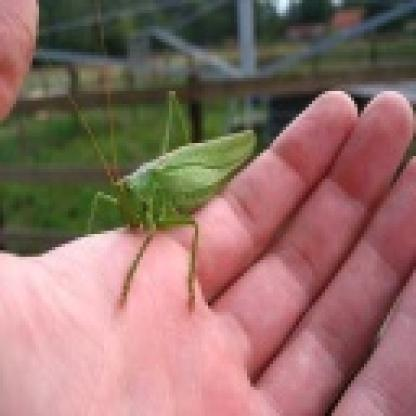grasshopper: (40, 96, 266, 264)
